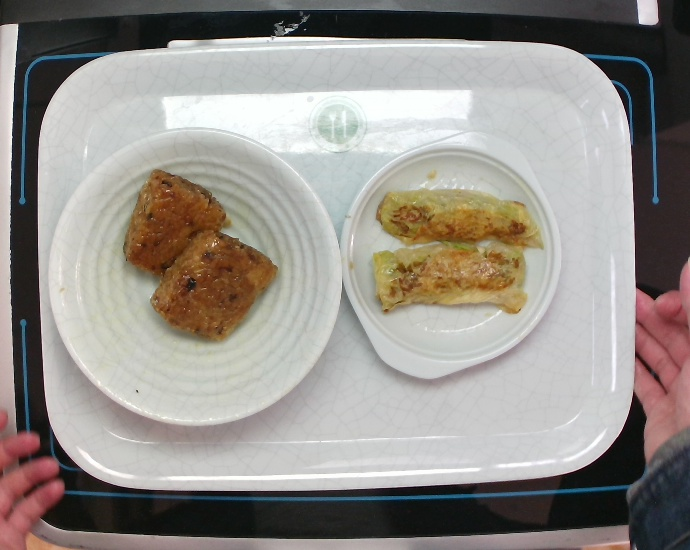JYsf-Shuang_Er_Pan: (337, 127, 565, 382)
JYsf-Xiao_Tang_Wan: (44, 126, 346, 428)
